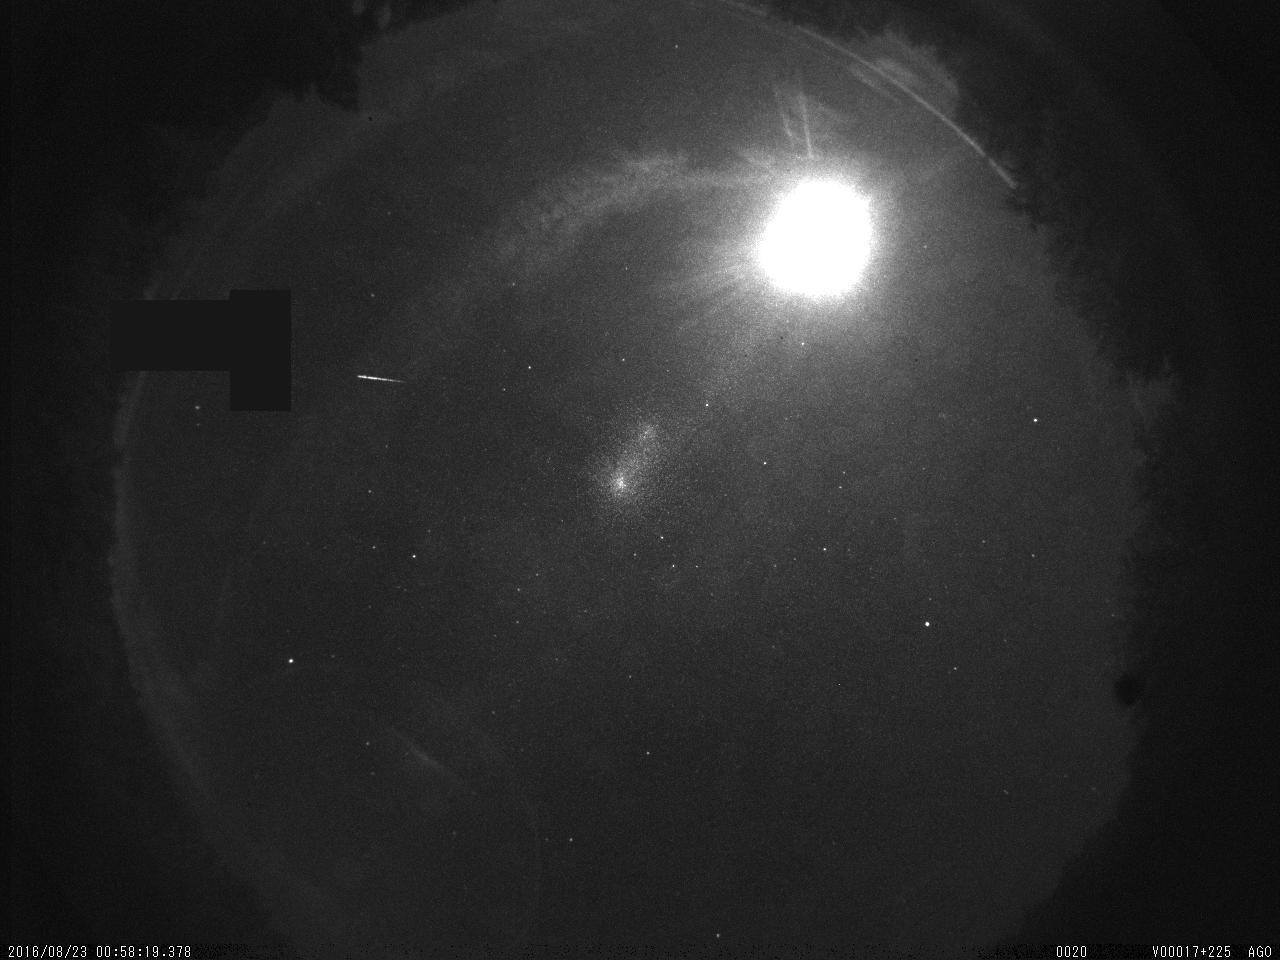Meteor: (350, 366, 404, 391)
